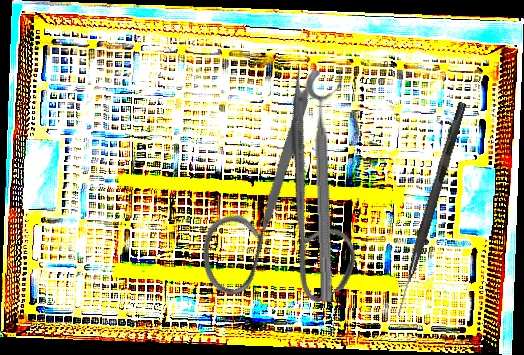Fixation Ring: (305, 68, 353, 303)
Hook Surgical: (394, 100, 467, 319)
Iris Scissors: (140, 62, 417, 345)
